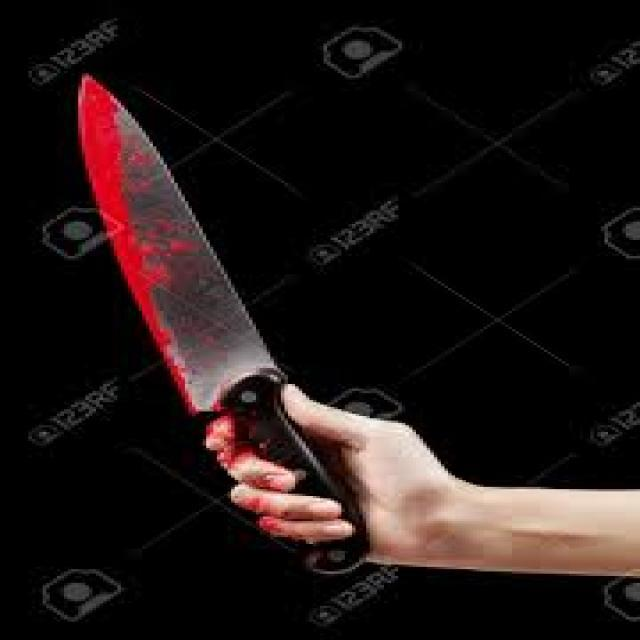faca: (61, 57, 452, 578)
